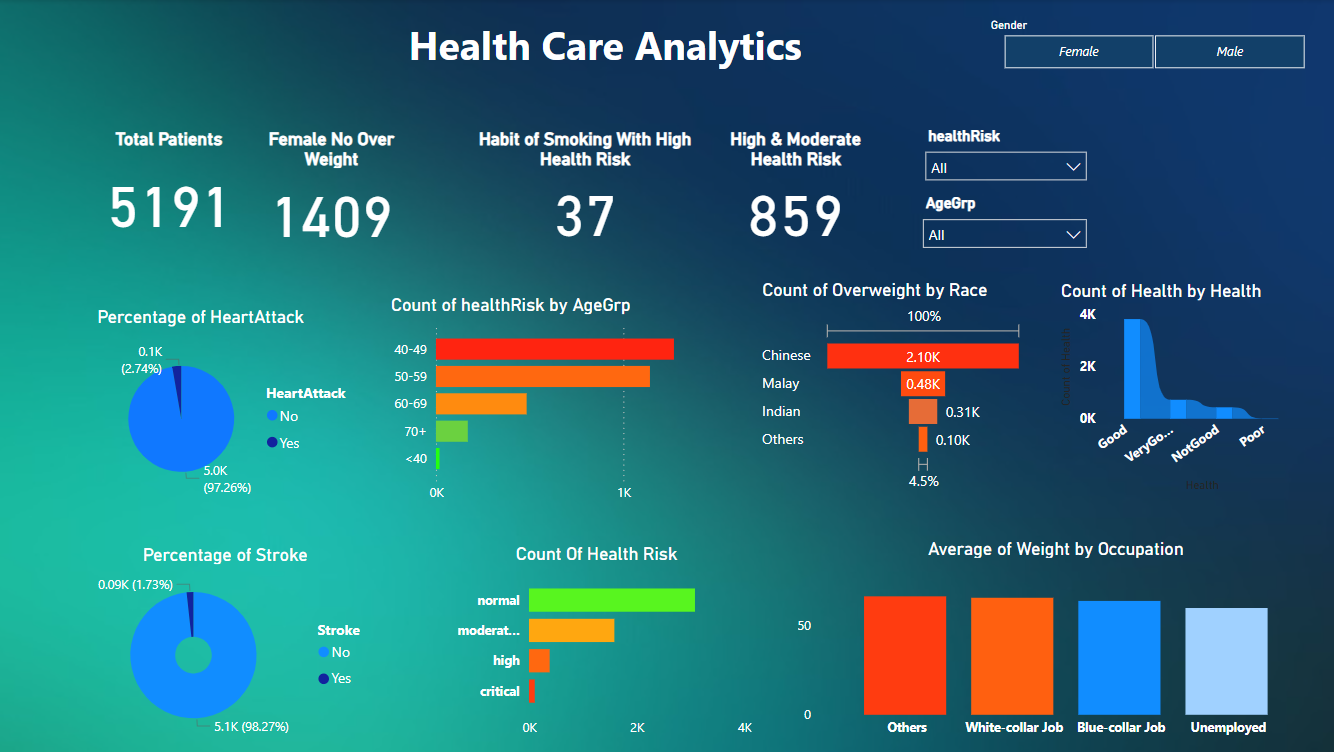

This screenshot's page, from the dashboard's own definition file:
{"tool":"powerbi","page":{"name":"Page 1","canvas":[1280,720],"ordinal":0},"visuals":[{"type":"card","title":"Total Patients","fields":{"Values":["CountNonNull(Table1.scnZone)"]},"box":[64.3,122.6,198.8,117.9],"z":0},{"type":"pieChart","title":"Percentage of HeartAttack","fields":{"Category":["Table1.HeartAttack"],"Y":["CountNonNull(Table1.HeartAttack)"]},"box":[90.5,292.9,252.4,195.2],"z":1000},{"type":"donutChart","title":"Percentage of Stroke","fields":{"Category":["Table1.Stroke"],"Y":["CountNonNull(Table1.Stroke)"]},"box":[64.3,519.1,306,192.9],"z":2000},{"type":"card","title":"Female No Over Weight","fields":{"Values":["CountNonNull(Table1.Overweight)"]},"box":[233.3,122.6,170.2,117.9],"z":3000},{"type":"clusteredBarChart","title":"Count Of Health Risk","fields":{"Category":["Table1.healthRisk"],"Y":["CountNonNull(Table1.healthRisk)"]},"box":[417.9,517.9,306,194],"z":4000},{"type":"lineClusteredColumnComboChart","title":"Average of Weight by Occupation ","fields":{"Category":["Table1.OccupationType"],"Y":["Avg(Table1.Weight)"]},"box":[757.1,513.1,502.4,198.8],"z":5000},{"type":"funnel","fields":{"Category":["Table1.Race"],"Y":["CountNonNull(Table1.Overweight)"]},"box":[723.8,266.7,259.5,207.1],"z":6000},{"type":"barChart","fields":{"Category":["Table1.AgeGrp"],"Y":["CountNonNull(Table1.healthRisk)"]},"box":[370.2,281,335.7,207.1],"z":7000},{"type":"card","title":"Habit of Smoking With High Health Risk","fields":{"Values":["CountNonNull(Table1.Smoking)"]},"box":[446.4,122.6,227.4,116.7],"z":8000},{"type":"card","title":"High & Moderate Health Risk","fields":{"Values":["CountNonNull(Table1.Exercise)"]},"box":[673.8,122.6,173.8,116.7],"z":9000},{"type":"slicer","fields":{"Values":["Table1.Gender"]},"box":[933.3,13.1,335.7,59.5],"z":10000},{"type":"slicer","fields":{"Values":["Table1.healthRisk"]},"box":[873.8,116.7,173.8,64.3],"z":11000},{"type":"slicer","fields":{"Values":["Table1.AgeGrp"]},"box":[871.4,181,176.2,58.3],"z":12000},{"type":"ribbonChart","fields":{"Category":["Table1.Health"],"Y":["CountNonNull(Table1.Health)"]},"box":[1008.3,267.9,236.9,206],"z":13000},{"type":"textbox","box":[386.9,13.1,475,86.9],"z":13001}]}

Visuals, with their boxes in screenshot pixels (x1, y1, x2, y2), scaled from the page's 1280x720 canvas onto the 1334x752 screenshot:
"Total Patients" card: <region>67, 128, 274, 251</region>
"Percentage of HeartAttack" pieChart: <region>94, 306, 357, 510</region>
"Percentage of Stroke" donutChart: <region>67, 542, 386, 744</region>
"Female No Over Weight" card: <region>243, 128, 421, 251</region>
"Count Of Health Risk" clusteredBarChart: <region>436, 541, 754, 744</region>
"Average of Weight by Occupation " lineClusteredColumnComboChart: <region>789, 536, 1313, 744</region>
funnel - Table1.Race x CountNonNull(Table1.Overweight): <region>754, 279, 1025, 495</region>
barChart - Table1.AgeGrp x CountNonNull(Table1.healthRisk): <region>386, 293, 736, 510</region>
"Habit of Smoking With High Health Risk" card: <region>465, 128, 702, 250</region>
"High & Moderate Health Risk" card: <region>702, 128, 883, 250</region>
slicer - Table1.Gender: <region>973, 14, 1323, 76</region>
slicer - Table1.healthRisk: <region>911, 122, 1092, 189</region>
slicer - Table1.AgeGrp: <region>908, 189, 1092, 250</region>
ribbonChart - Table1.Health x CountNonNull(Table1.Health): <region>1051, 280, 1298, 495</region>
textbox: <region>403, 14, 898, 104</region>
